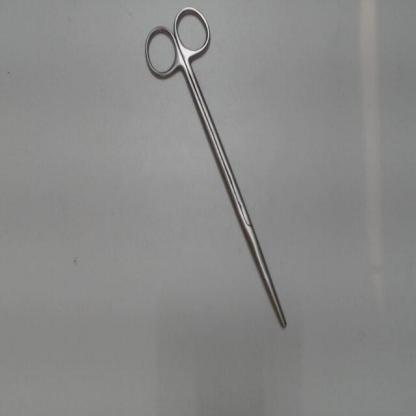9 Metzenbaum Scissors: (139, 3, 290, 332)
